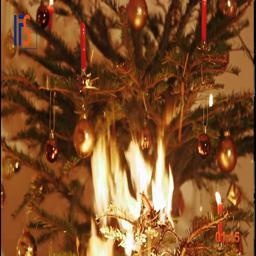fire: (88, 136, 175, 256)
